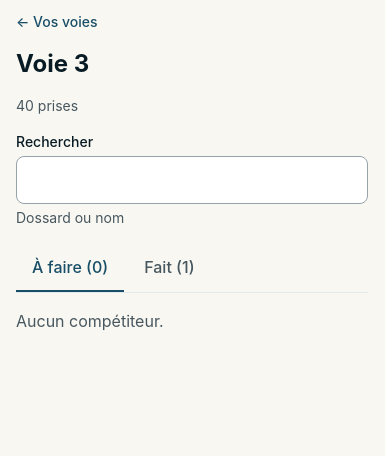
Test: JudgeRoute › propose « Corriger » sur une ligne tout juste enregistrée de façon optimiste
Click the tab "Fait (1)".
click(169, 268)  # box top-left (128, 244), bottom-right (210, 292)
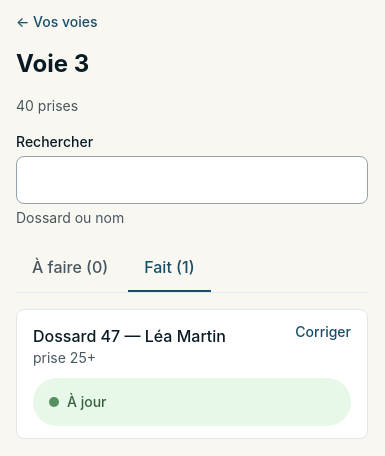
Expected: the text "prise 25+" is shown, top-left (33, 349), bottom-right (96, 366)
Expected: the text "Corriger" is shown, top-left (295, 323), bottom-right (351, 340)
